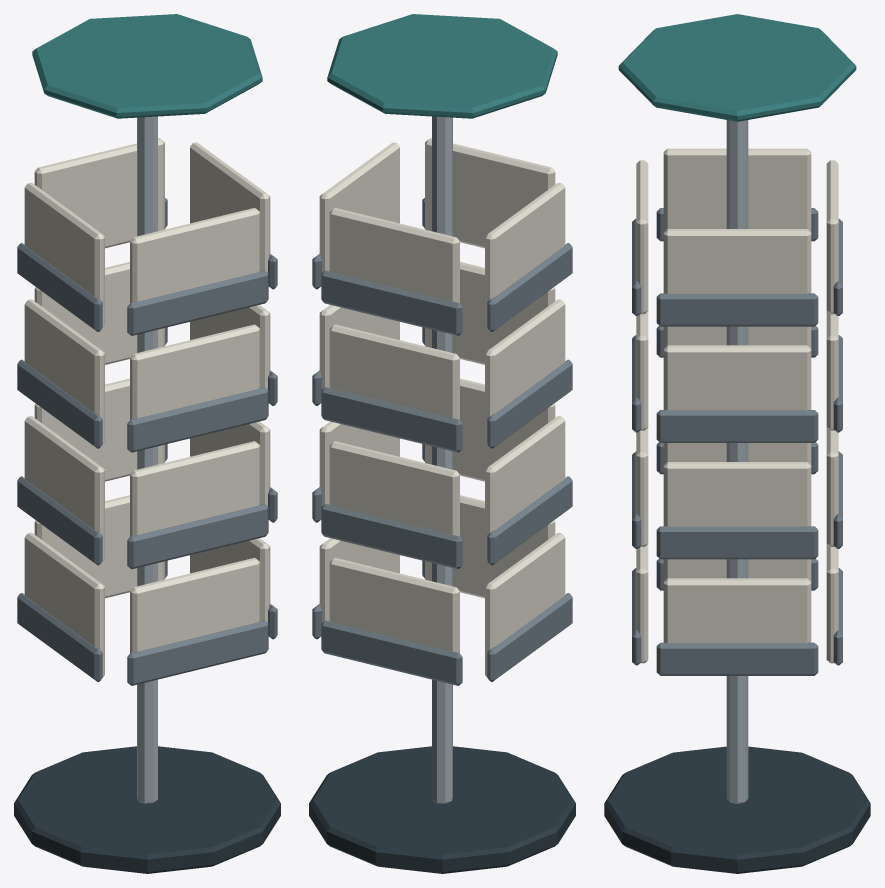
The model's file is b10_greeting_card_spinner_rack.glb.
3 views of the same model, side by side, from view 1: azimuth 30°, elevation 25°; view 2: azimuth 150°, elevation 25°; view 3: azimuth 270°, elevation 25° (orthographic).
Visible parts, largest first — view 1: b10_greeting_card_spinner_rack; view 2: b10_greeting_card_spinner_rack; view 3: b10_greeting_card_spinner_rack.
Part boxes in pixels (left/top/right/bottom): b10_greeting_card_spinner_rack: left=14, top=14, right=280, bottom=873; b10_greeting_card_spinner_rack: left=309, top=14, right=575, bottom=873; b10_greeting_card_spinner_rack: left=604, top=14, right=870, bottom=873.
Size of the model in its own units: 0.56 by 1.75 by 0.56.
